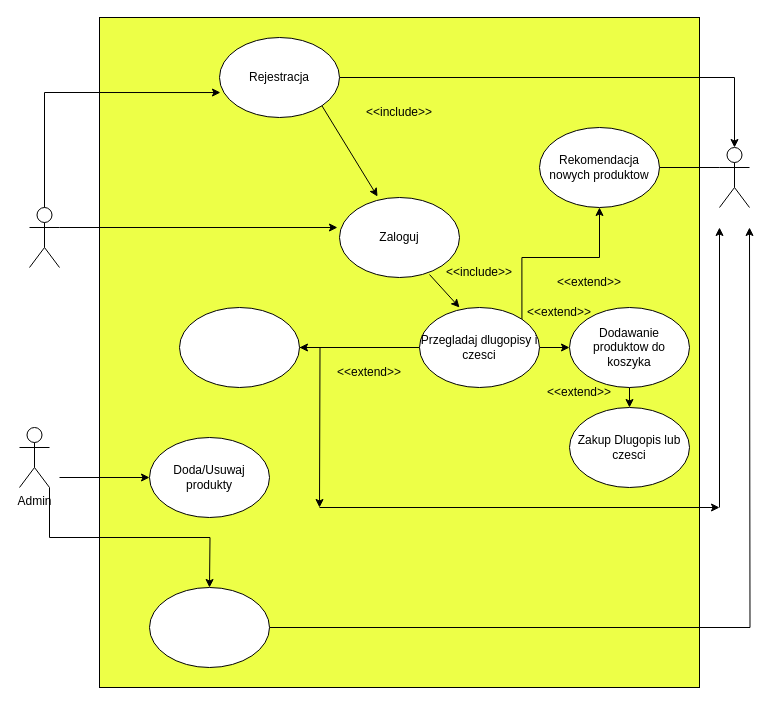
This 775x705 diagram has some shape labels left out. Here are the shapes that lost their labels. From the top down, the box of each, then its label:
(718, 146, 750, 208): System
(28, 206, 60, 268): Klient
(178, 306, 300, 388): Zostaw opinie produktu
(148, 586, 270, 668): aktualizuj liste dlugopisow i czesci
